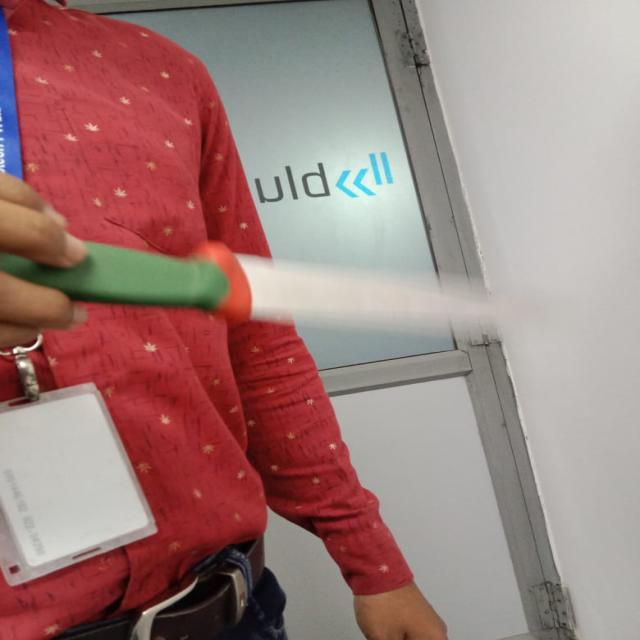Knife: (0, 241, 502, 327)
